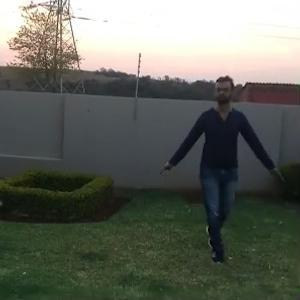land: (168, 71, 285, 267)
